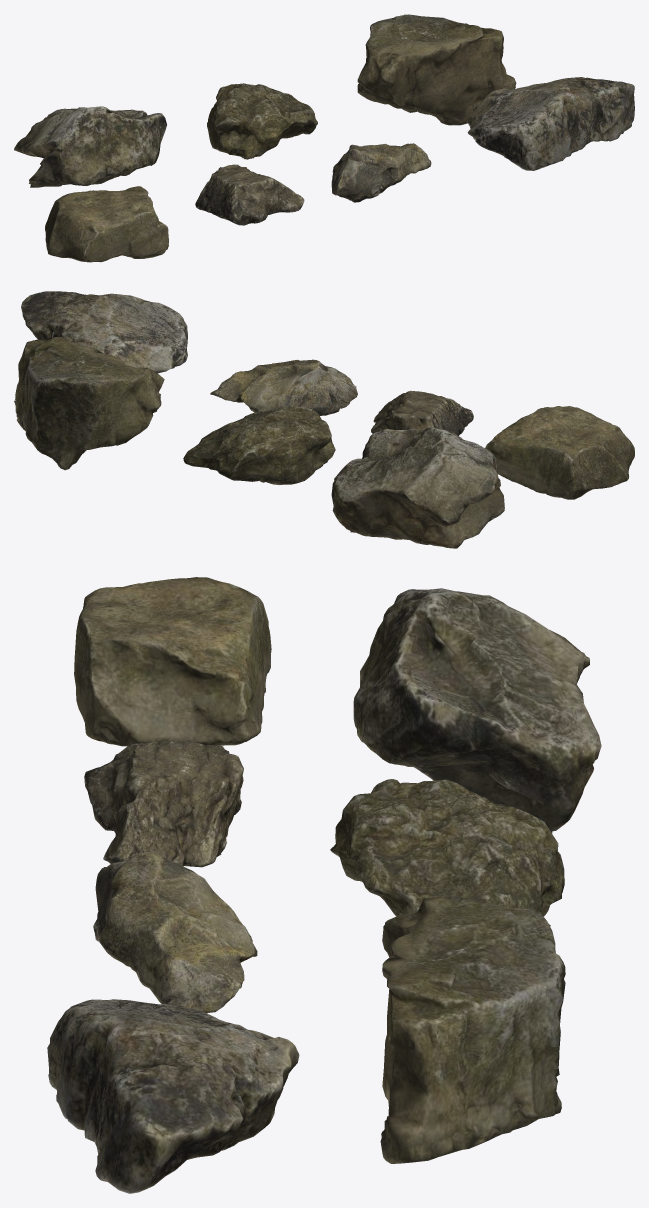
The model's file is rock_moss_set_02.glb.
3 views of the same model, one above another, from view 1: azimuth 30°, elevation 25°; view 2: azimuth 150°, elevation 25°; view 3: azimuth 270°, elevation 25° (orthographic). The views are drawn at different scales.
Visible parts, largest first — view 1: rock_moss_set_02_rock13, rock_moss_set_02_rock10, rock_moss_set_02_rock11, rock_moss_set_02_rock07, rock_moss_set_02_rock12, rock_moss_set_02_rock08, rock_moss_set_02_rock09; view 2: rock_moss_set_02_rock11, rock_moss_set_02_rock13, rock_moss_set_02_rock07, rock_moss_set_02_rock10, rock_moss_set_02_rock12, rock_moss_set_02_rock09, rock_moss_set_02_rock08; view 3: rock_moss_set_02_rock13, rock_moss_set_02_rock11, rock_moss_set_02_rock10, rock_moss_set_02_rock07, rock_moss_set_02_rock12, rock_moss_set_02_rock09, rock_moss_set_02_rock08.
Boxes of the visible parts, x1,y1,x2,y2 form: rock_moss_set_02_rock13: (357, 14, 516, 125); rock_moss_set_02_rock10: (467, 77, 634, 170); rock_moss_set_02_rock11: (14, 106, 166, 187); rock_moss_set_02_rock07: (45, 186, 168, 262); rock_moss_set_02_rock12: (207, 83, 317, 159); rock_moss_set_02_rock08: (195, 164, 304, 225); rock_moss_set_02_rock09: (331, 143, 431, 202); rock_moss_set_02_rock11: (331, 427, 504, 548); rock_moss_set_02_rock13: (14, 337, 164, 470); rock_moss_set_02_rock07: (485, 406, 634, 499); rock_moss_set_02_rock10: (21, 291, 187, 373); rock_moss_set_02_rock12: (183, 406, 335, 484); rock_moss_set_02_rock09: (210, 359, 357, 415); rock_moss_set_02_rock08: (371, 390, 473, 435); rock_moss_set_02_rock13: (380, 895, 565, 1163); rock_moss_set_02_rock11: (353, 588, 601, 833); rock_moss_set_02_rock10: (47, 999, 299, 1193); rock_moss_set_02_rock07: (74, 577, 271, 746); rock_moss_set_02_rock12: (330, 779, 564, 926); rock_moss_set_02_rock09: (93, 851, 257, 1013); rock_moss_set_02_rock08: (84, 741, 243, 867).
Size of the model in its own units: 8.28 by 1.37 by 3.41.
Materials: 1 (1 with a texture image).
